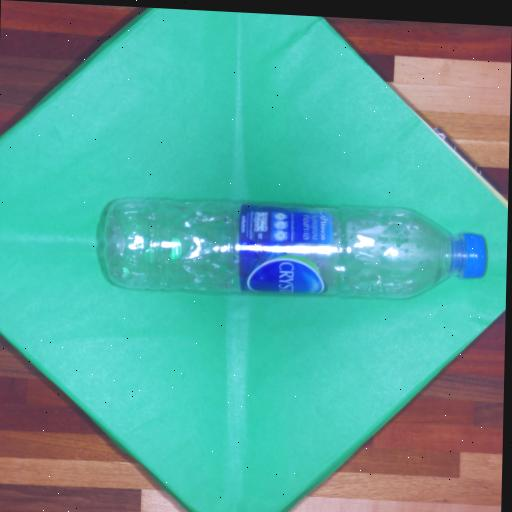bottle: (78, 168, 501, 331)
